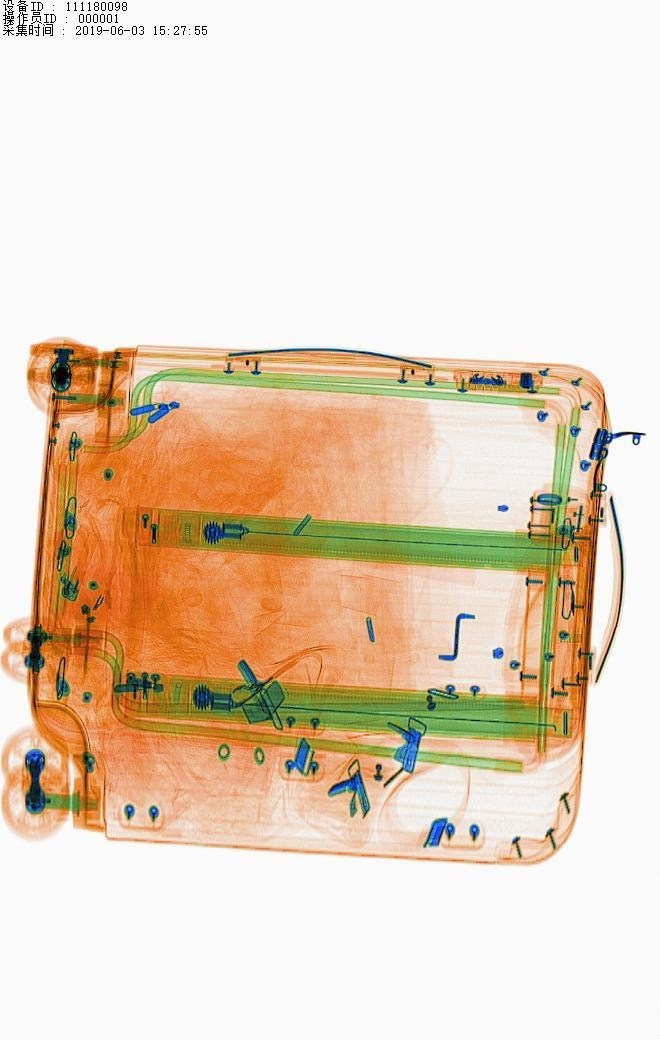NonmetallicFire: (49, 511, 120, 621)
